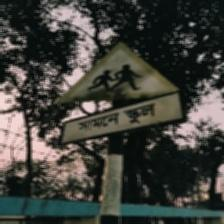School-in-front: (53, 42, 185, 145)
